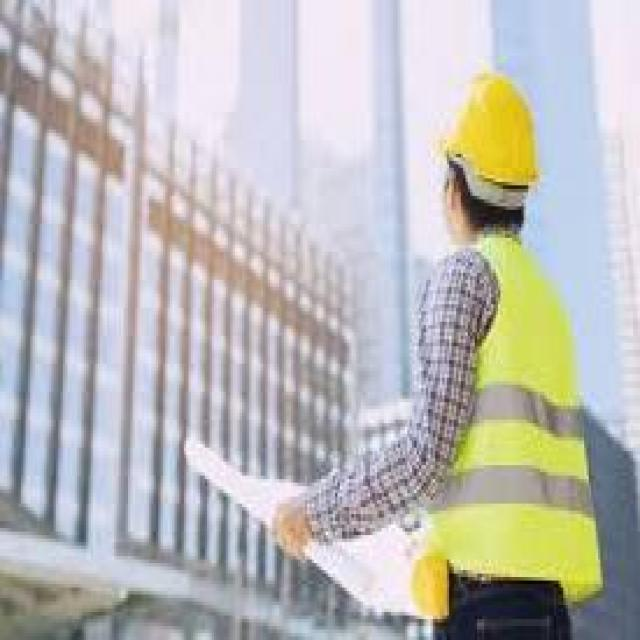Reflective-Jacket: (405, 227, 607, 605)
Safety-Helmet: (431, 60, 549, 214)
